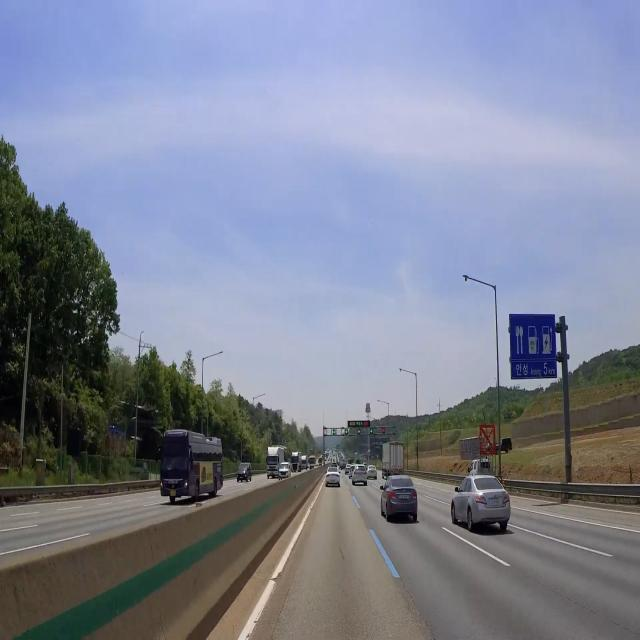car: (486, 492, 502, 509), (397, 488, 410, 505), (169, 488, 179, 501), (357, 472, 366, 482), (329, 478, 338, 485), (239, 475, 243, 480), (270, 472, 275, 476), (281, 474, 285, 478), (370, 471, 375, 474)
